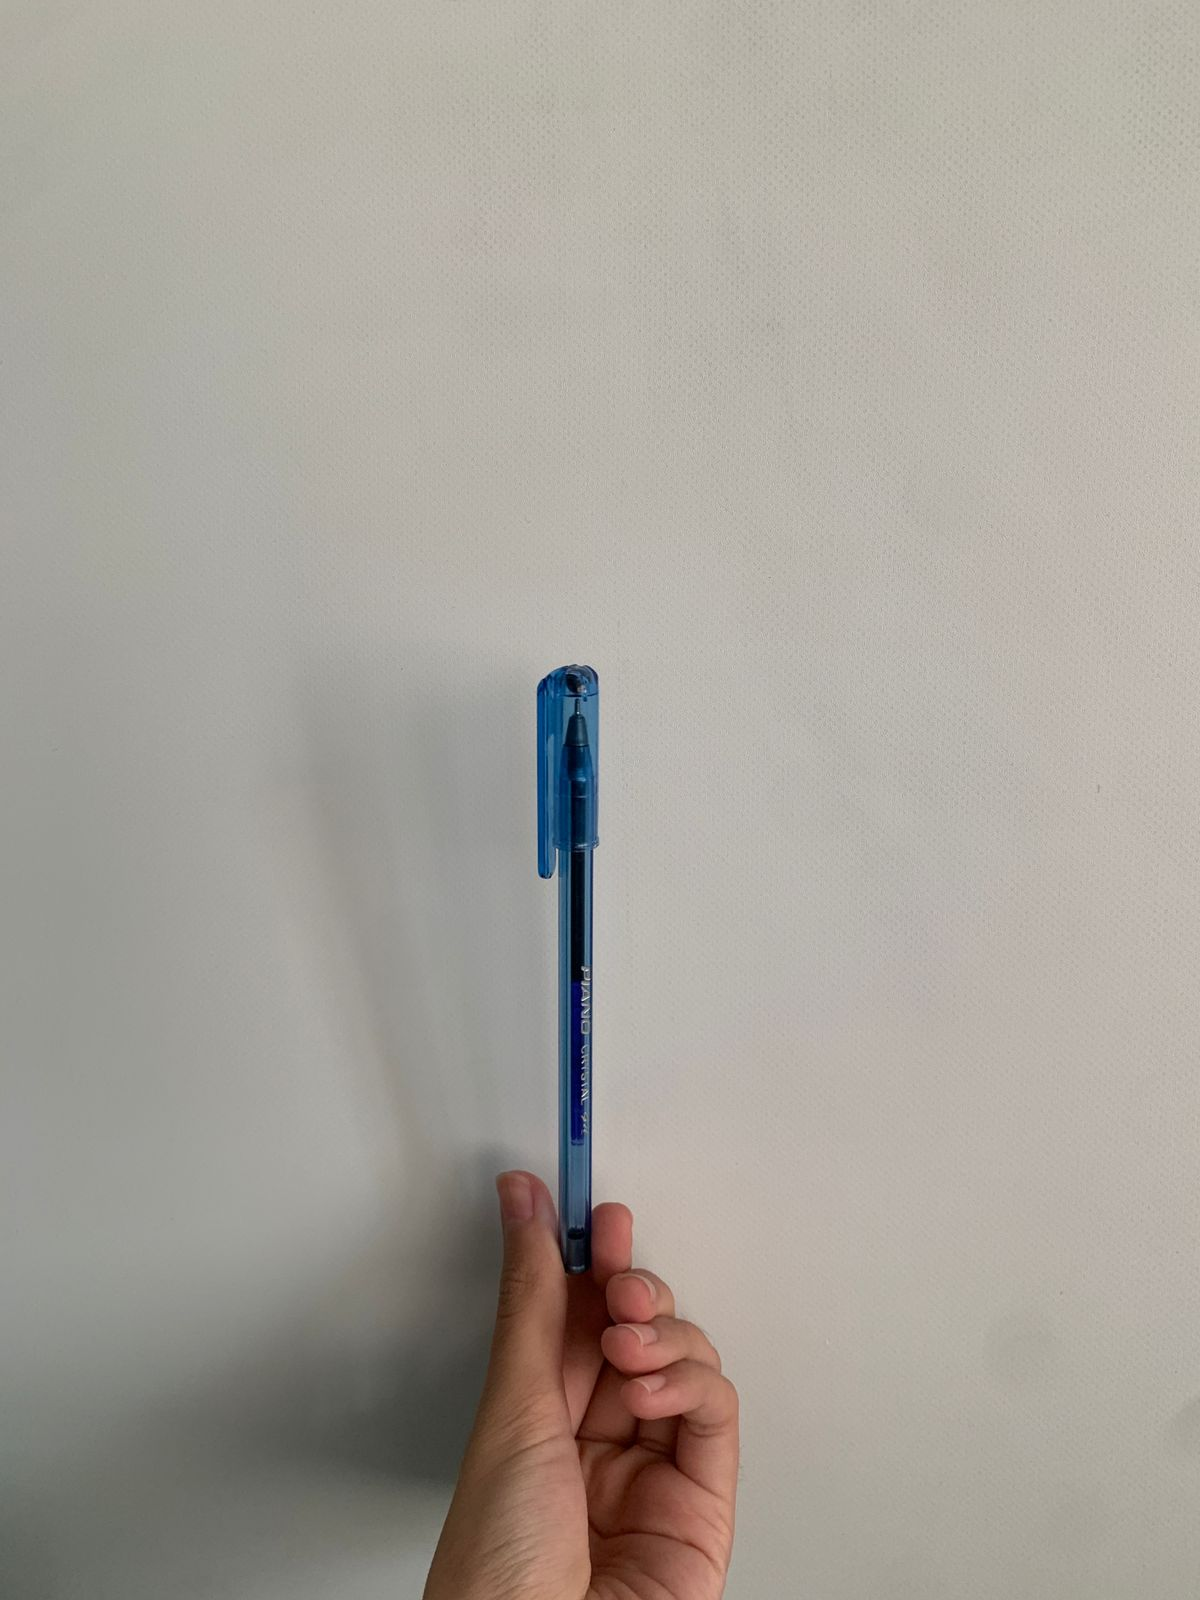pen: (397, 595, 802, 1441)
